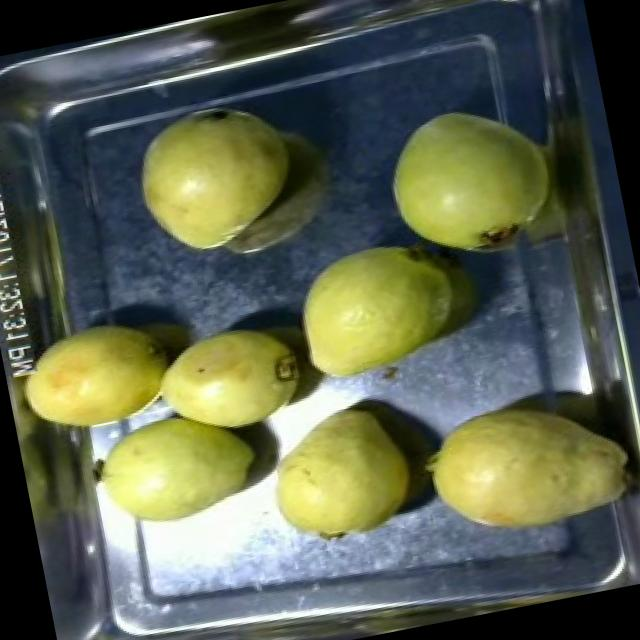Fruit: (406, 371, 640, 564), (270, 218, 496, 402), (116, 84, 317, 274), (370, 88, 570, 276), (245, 385, 432, 567), (75, 388, 275, 552), (0, 301, 191, 455), (140, 312, 323, 456)
